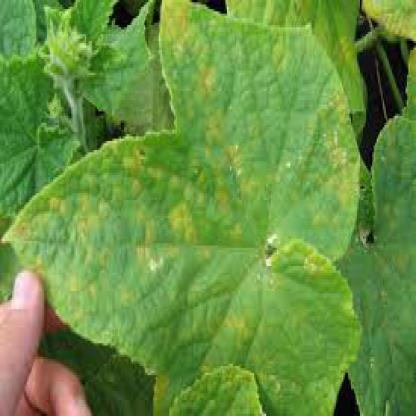DownyMildew: (10, 127, 221, 373), (162, 0, 355, 243)
